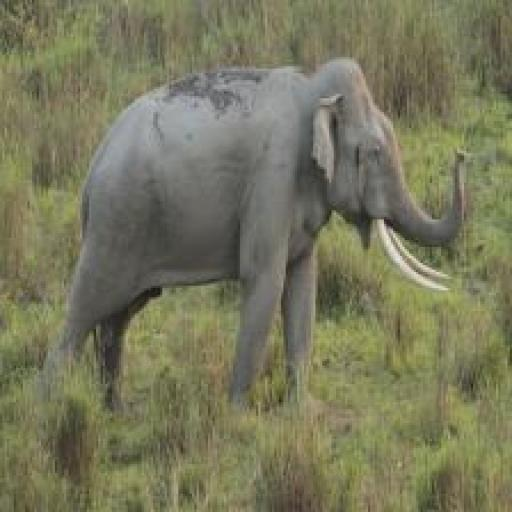Elephant: (41, 58, 466, 412)
